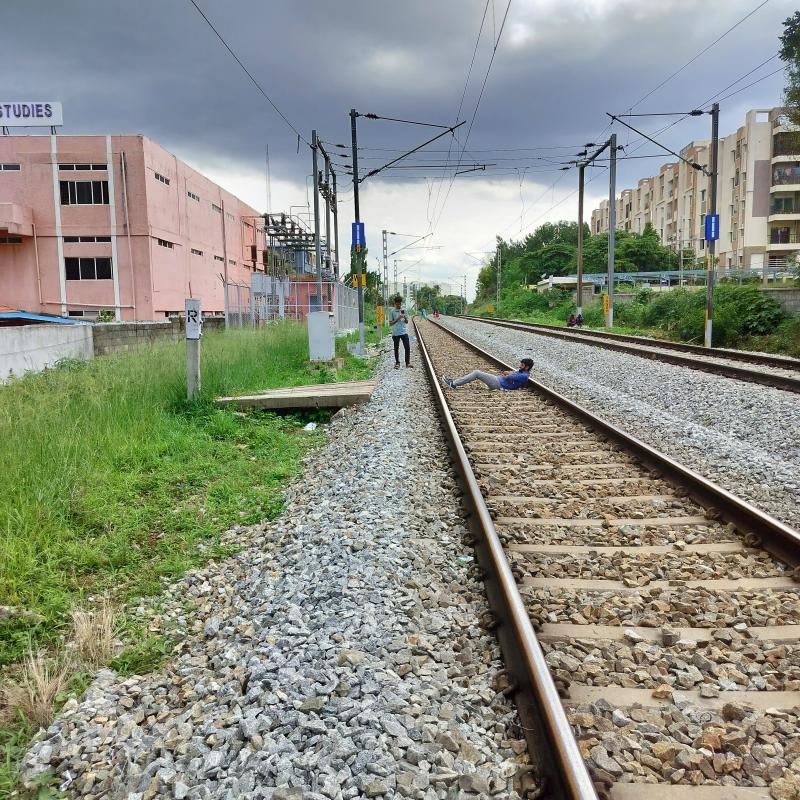sleeping: (426, 353, 552, 392)
